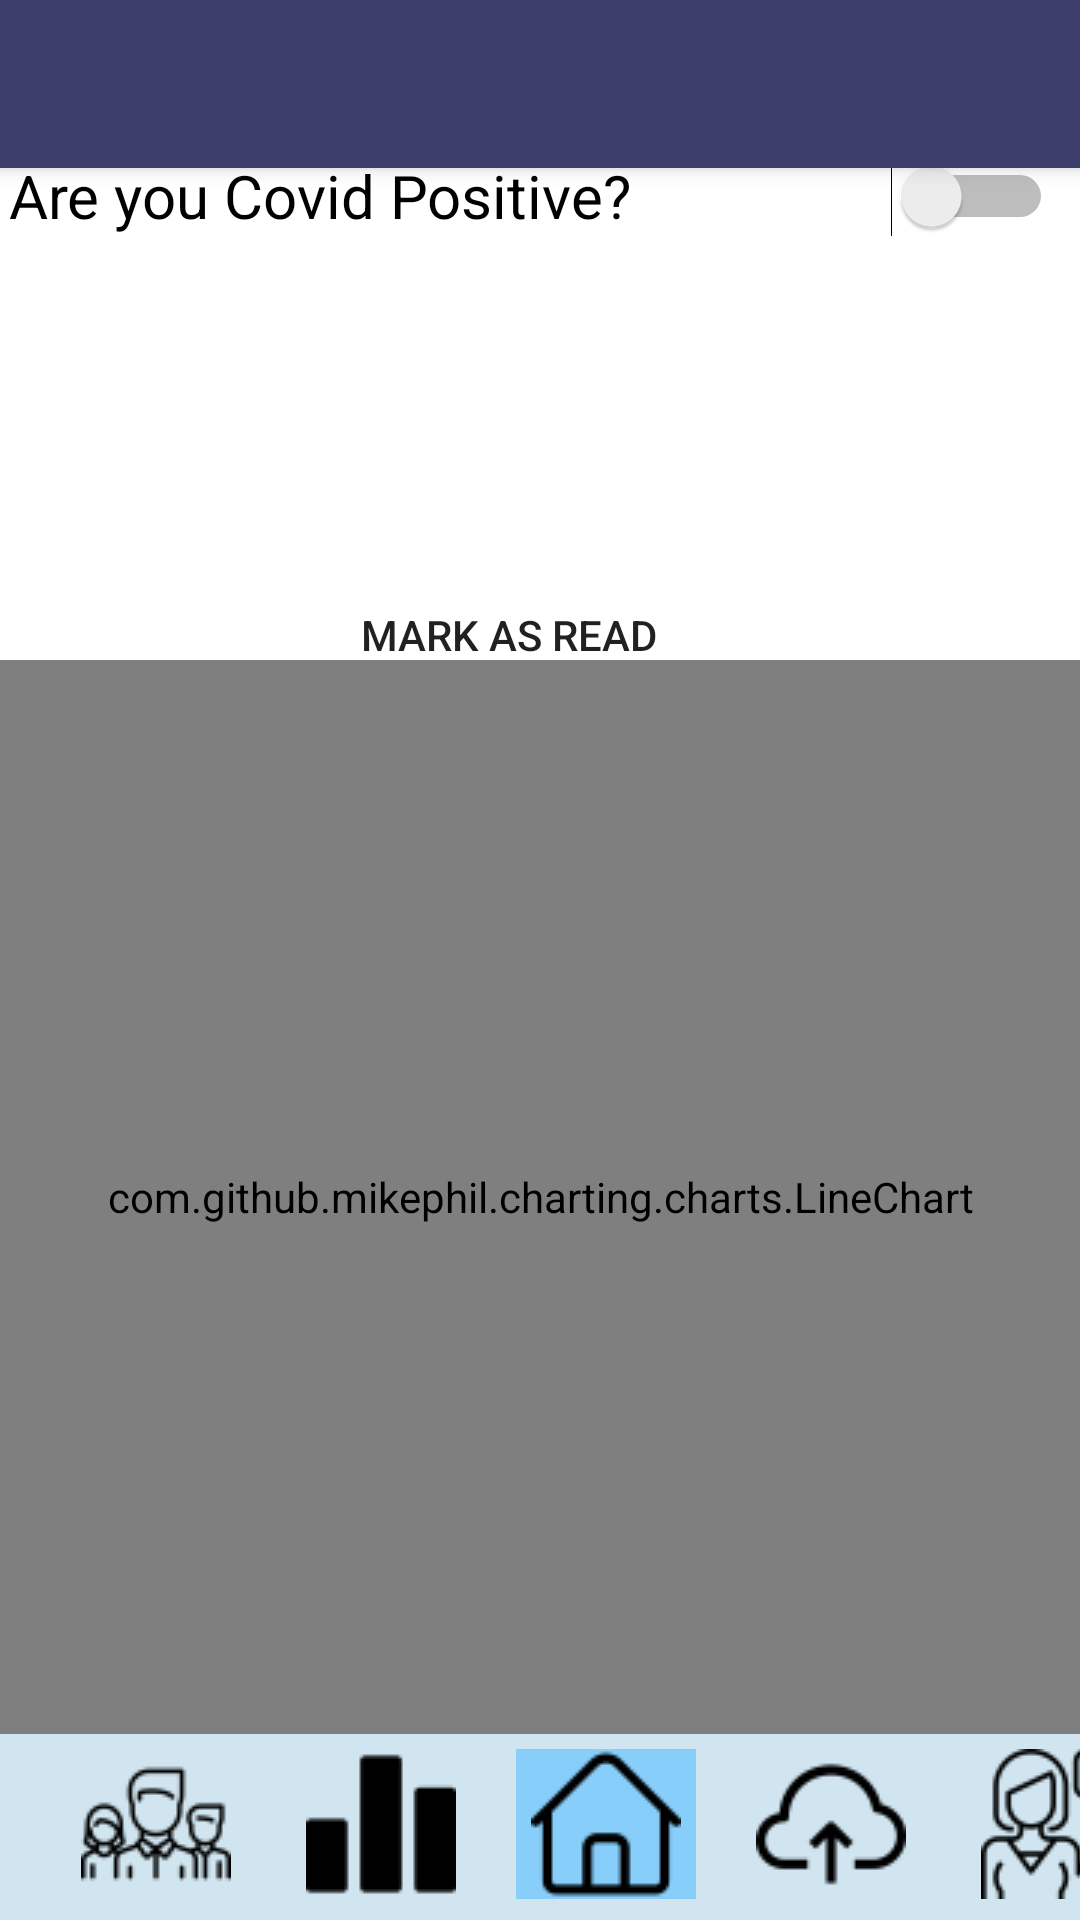

Icons on this 1080w x 1920h Android screen, each with the point to tap as (x=x, y=y):
housez: (x=606, y=1824)
statisticalz: (x=381, y=1824)
teamz: (x=156, y=1823)
uploadz: (x=831, y=1824)
